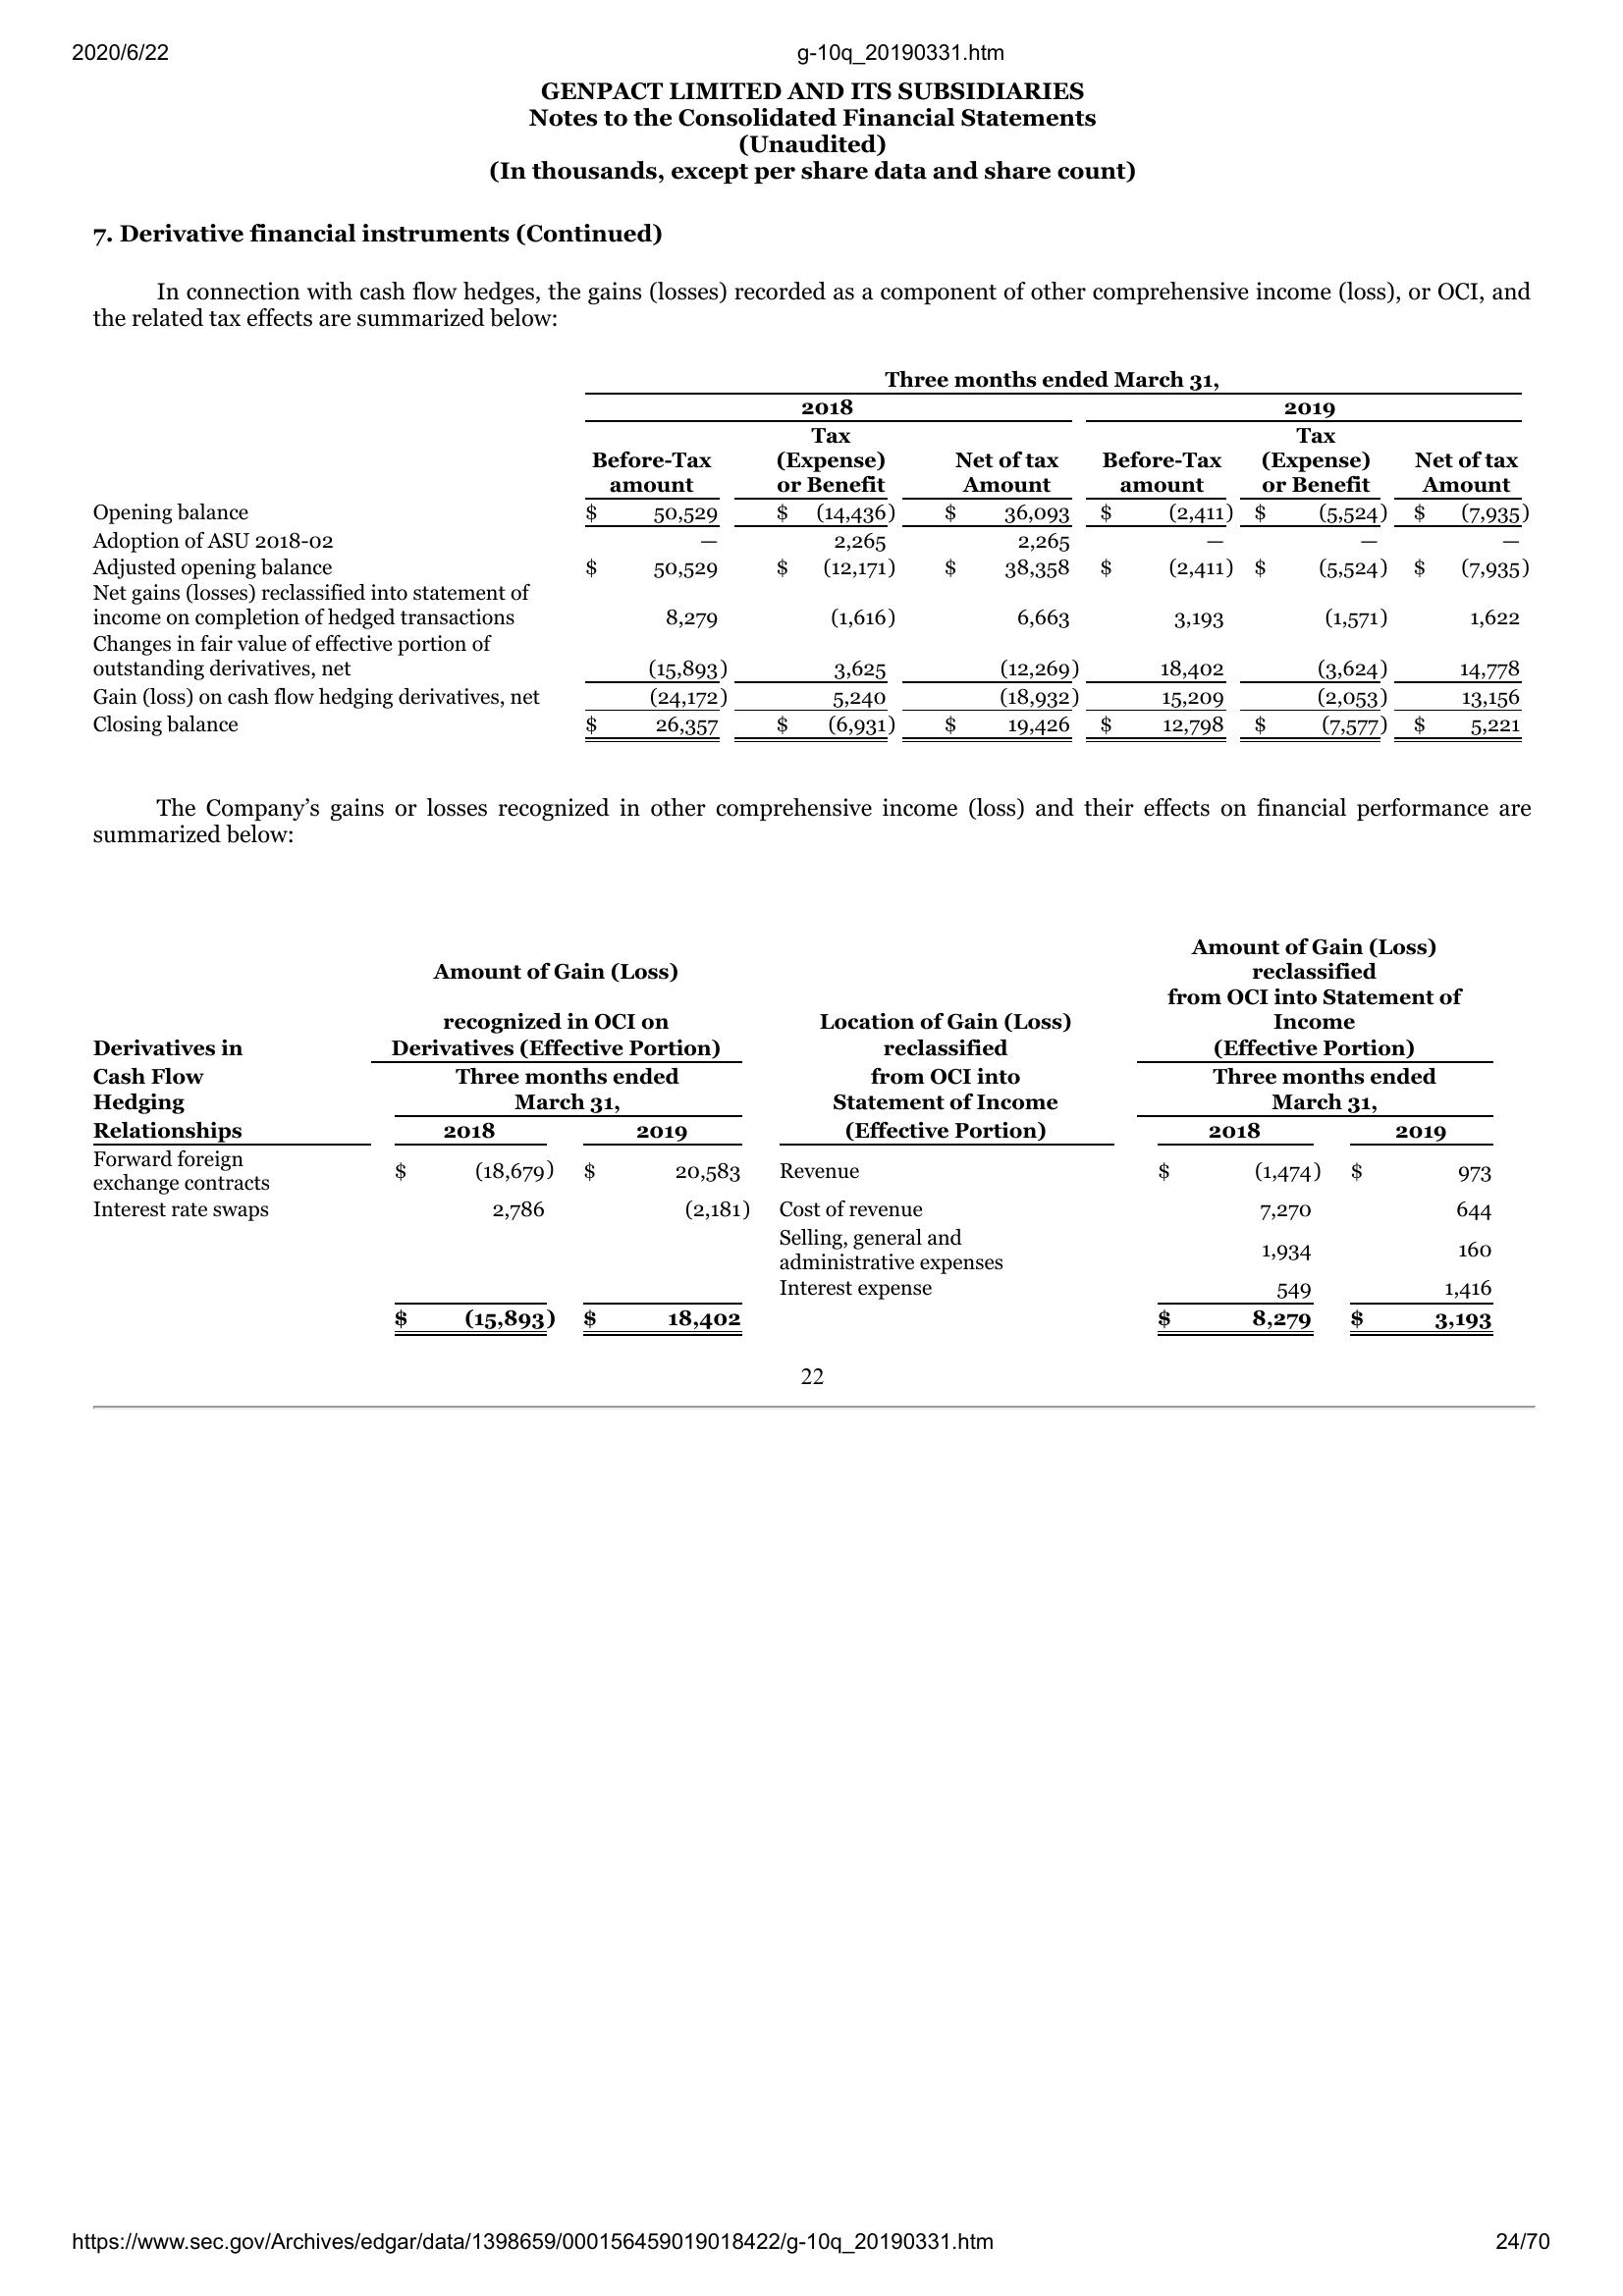table: (79, 932, 1504, 1341), (77, 358, 1533, 750)
